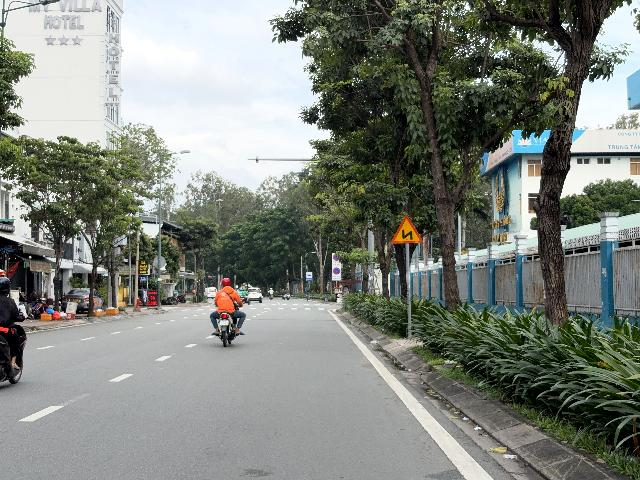nhieu-cho-ngoat-nguy-hiem-lien-tiep: (390, 215, 422, 244)
